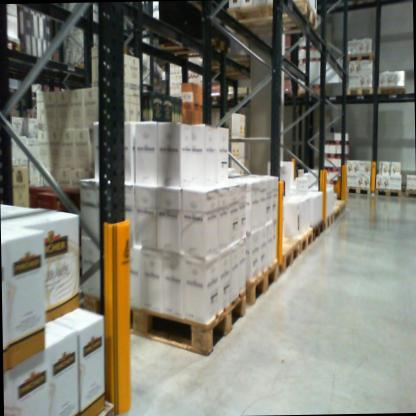pallet: (72, 246, 248, 358), (221, 1, 324, 41), (157, 20, 235, 65), (239, 255, 280, 308), (270, 228, 296, 272), (292, 221, 313, 259), (343, 176, 371, 202), (0, 25, 24, 54), (374, 182, 403, 202), (304, 217, 323, 244), (345, 47, 376, 62), (324, 199, 345, 219), (376, 85, 410, 97), (318, 209, 334, 231), (348, 86, 376, 98), (326, 203, 341, 224), (403, 187, 414, 200)
